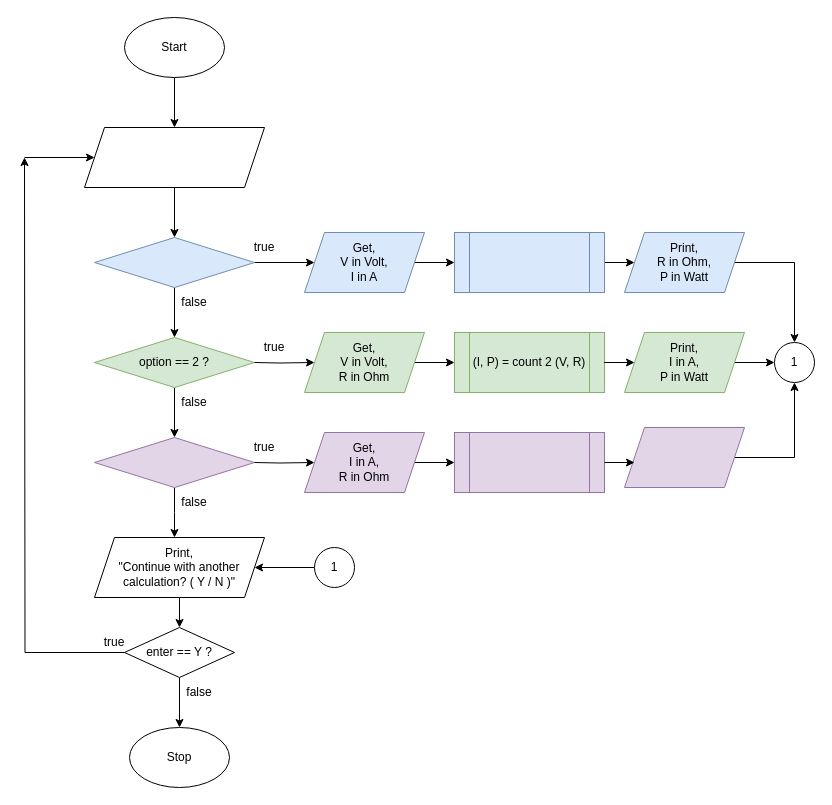
Image size: 832x805. Some labels were removed from this diagram. The shapes that lost their labels are listed below. From the top down, each one's box as (x1, y1, x2, y2) in pixels, then its label:
(84, 126, 264, 188): Choose, option
(94, 236, 254, 288): option == 1 ?
(454, 232, 604, 292): (R, P) = count 1 (V, I)
(94, 436, 254, 488): option == 3 ?
(454, 432, 604, 492): (V, P) = count 3 (I, R)
(624, 426, 744, 488): Print, V in Volt, P in Watt
